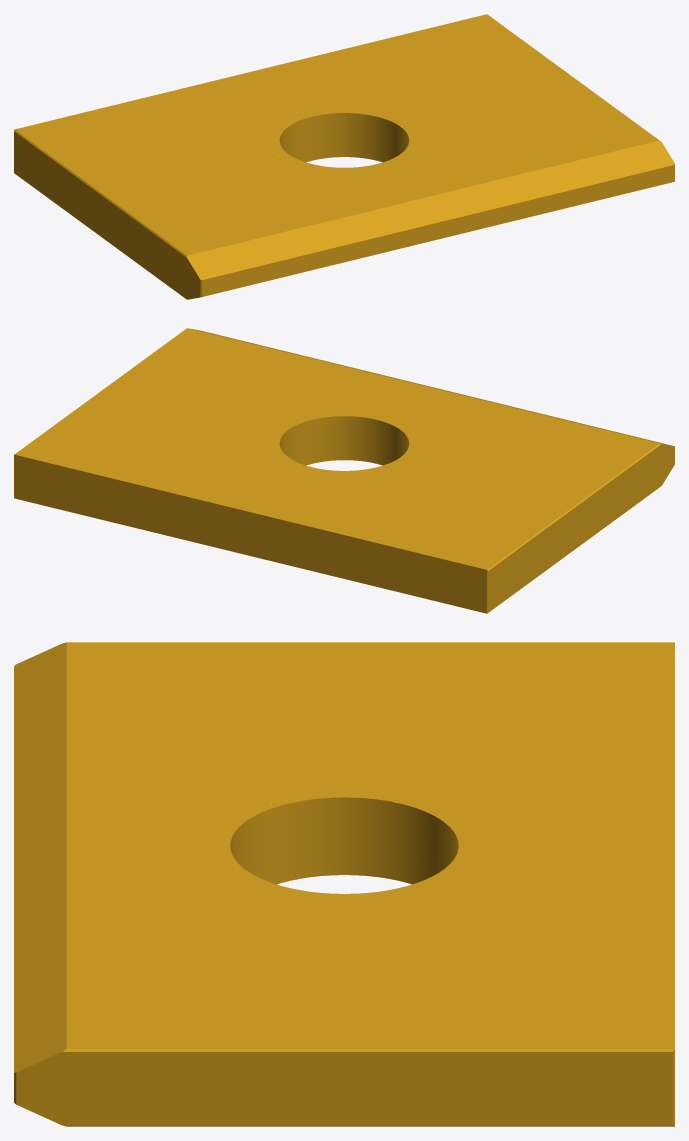
Rendered from asinma-cat-cat-115-02.glb.
3 renders of one model, top to bottom at view 1: azimuth 30°, elevation 25°; view 2: azimuth 150°, elevation 25°; view 3: azimuth 270°, elevation 25°, orthographic. The views are drawn at different scales.
Parts seen in each view (by area): view 1: body; view 2: body; view 3: body.
Part boxes in pixels (x1,y1,x2,y2): body: [14, 14, 674, 299]; body: [14, 328, 674, 613]; body: [14, 642, 674, 1126].
Bounding box in the file's own units: 0.22 × 0.0195 × 0.1505.
